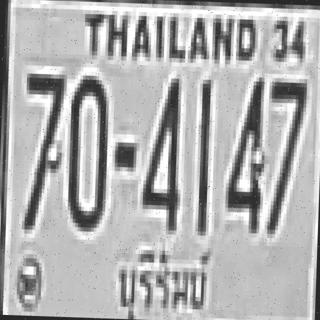N00: (64, 71, 107, 228)
N01: (194, 77, 212, 234), (194, 79, 212, 223)
N04: (139, 73, 182, 230), (223, 74, 266, 231)
N07: (20, 69, 63, 226), (266, 80, 306, 233), (22, 70, 63, 173), (268, 80, 306, 180)
P06: (111, 242, 212, 320)
